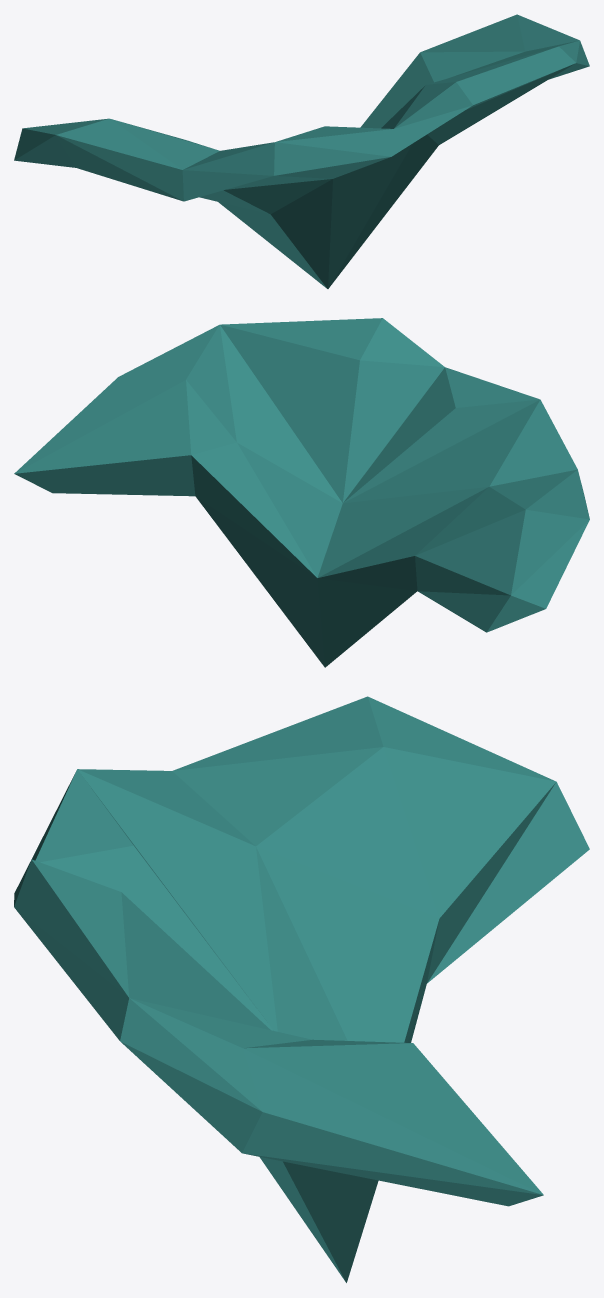
File: SM_Coral_Plate_Dead_C.fbx
3 views of the same model, one above another, from view 1: azimuth 30°, elevation 25°; view 2: azimuth 150°, elevation 25°; view 3: azimuth 270°, elevation 25° (orthographic). The views are drawn at different scales.
Parts seen in each view (by area): view 1: coral-plate-dead-c; view 2: coral-plate-dead-c; view 3: coral-plate-dead-c.
Boxes of the visible parts, left/top/right/bottom form: coral-plate-dead-c: left=14, top=14, right=589, bottom=288; coral-plate-dead-c: left=14, top=318, right=589, bottom=667; coral-plate-dead-c: left=14, top=696, right=589, bottom=1282.
Size of the model in its own units: 0.9534 by 0.4733 by 0.5442.
